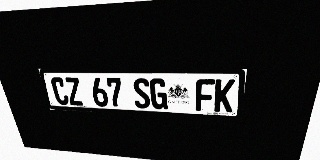6: (90, 78, 109, 107)
7: (105, 78, 124, 108)
C: (50, 77, 70, 105)
F: (195, 79, 215, 111)
G: (149, 78, 168, 109)
K: (214, 79, 235, 112)
S: (132, 78, 151, 109)
Z: (64, 77, 84, 106)
